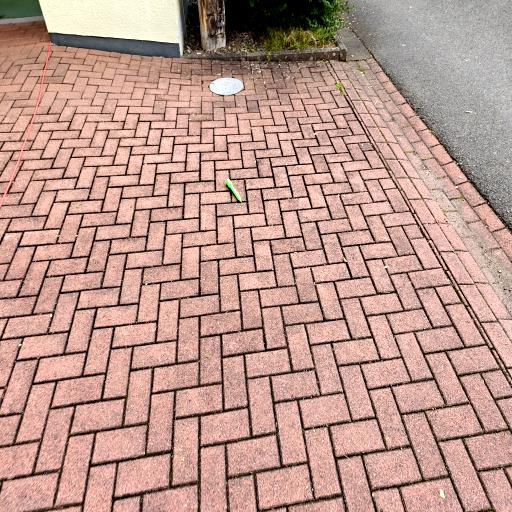Probe-Detection: (226, 178, 242, 202)
